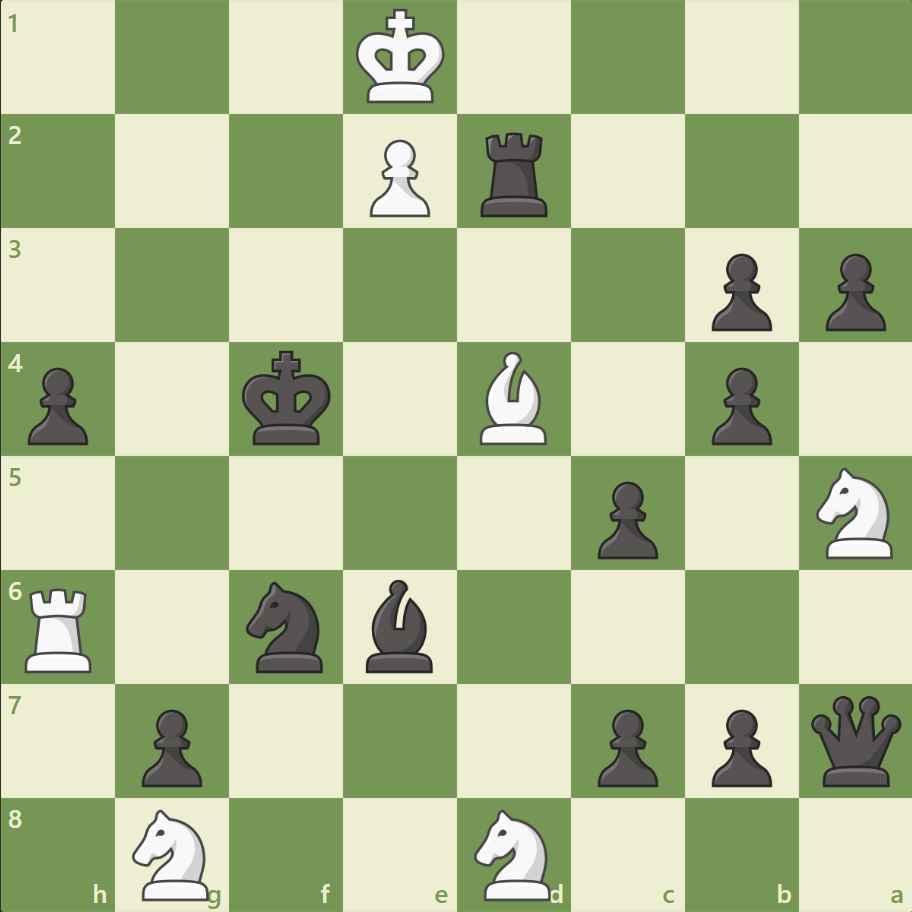B: (471, 347, 555, 449)
K: (351, 4, 451, 112)
N: (124, 802, 222, 904), (806, 461, 903, 564), (465, 802, 562, 904)
P: (361, 132, 435, 223)
R: (19, 579, 102, 676)
b: (358, 574, 442, 676)
k: (238, 344, 338, 452)
n: (238, 575, 335, 677)
p: (701, 700, 776, 791), (133, 700, 208, 791), (701, 359, 776, 450), (20, 359, 95, 450), (701, 246, 776, 337), (588, 700, 662, 791), (588, 473, 662, 564), (815, 246, 889, 337)
q: (805, 690, 904, 789)
r: (473, 125, 556, 222)
